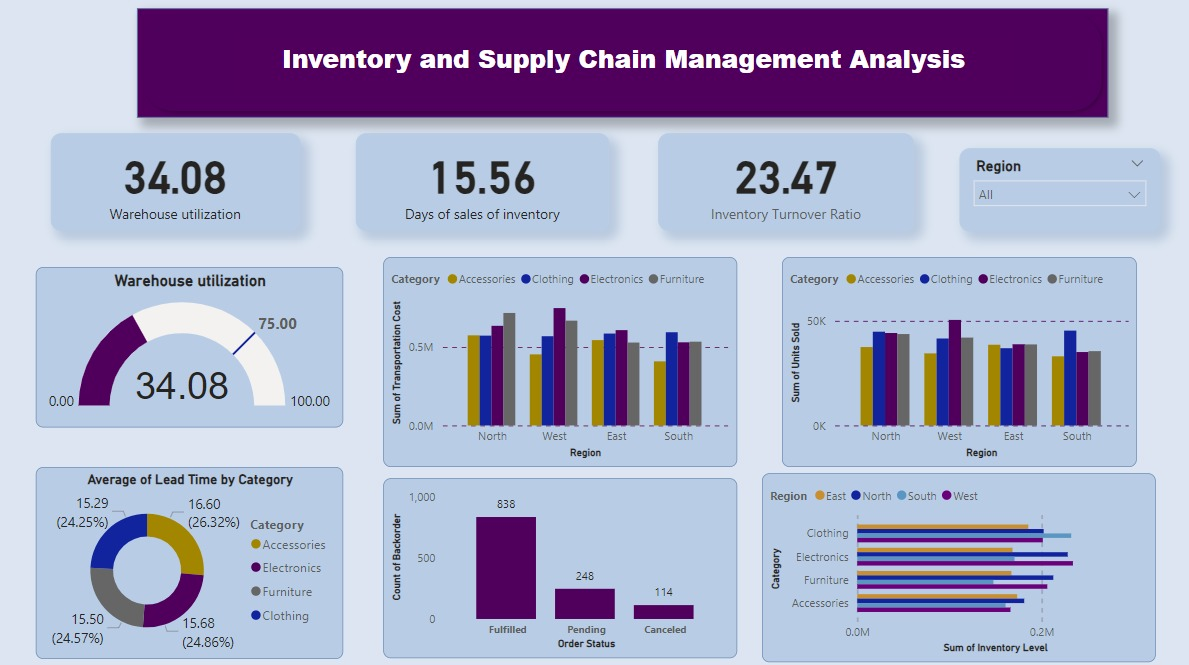

What the dashboard file says about the page in this screenshot:
{"tool":"powerbi","page":{"name":"Page 1","canvas":[1280,720],"ordinal":0},"visuals":[{"type":"shape","box":[155.1,17.8,1036,116.6],"z":0},{"type":"textbox","box":[259.3,46.7,827.4,60.4],"z":1},{"type":"card","fields":{"Values":["SupplyChainInventory.Warehouse utilization"]},"box":[63.1,150.9,266.2,104.3],"z":2},{"type":"card","fields":{"Values":["SupplyChainInventory.Days of sales of inventory"]},"box":[388.3,150.9,270.3,104.3],"z":3},{"type":"card","fields":{"Values":["SupplyChainInventory.Inventory Turnover Ratio"]},"box":[710.8,150.9,273.1,104.3],"z":4},{"type":"slicer","fields":{"Values":["SupplyChainInventory.Region"]},"box":[1031.9,166,214.1,89.2],"z":5},{"type":"gauge","fields":{"Y":["SupplyChainInventory.Warehouse utilization"]},"box":[46.7,293.7,328,171.5],"z":6},{"type":"clusteredColumnChart","fields":{"Y":["Sum(SupplyChainInventory.Transportation Cost)"],"Category":["SupplyChainInventory.Region"],"Series":["SupplyChainInventory.Category"]},"box":[417.2,282.7,377.4,223.7],"z":7},{"type":"clusteredColumnChart","fields":{"Series":["SupplyChainInventory.Category"],"Y":["Sum(SupplyChainInventory.Units Sold)"],"Category":["SupplyChainInventory.Region"]},"box":[842.5,282.7,378.7,223.7],"z":8},{"type":"donutChart","fields":{"Y":["Avg(SupplyChainInventory.Lead Time)"],"Category":["SupplyChainInventory.Category"]},"box":[46.7,506.3,328,204.5],"z":9},{"type":"columnChart","fields":{"Y":["CountNonNull(SupplyChainInventory.Backorder)"],"Category":["SupplyChainInventory.Order Status"]},"box":[417.2,518.7,377.4,192.1],"z":10},{"type":"clusteredBarChart","fields":{"Series":["SupplyChainInventory.Region"],"Category":["SupplyChainInventory.Category"],"Y":["Sum(SupplyChainInventory.Inventory Level)"]},"box":[822,513.2,419.9,201.7],"z":11}]}

Visuals, with their boxes in screenshot pixels (x1, y1, x2, y2), scaled from the page's 1280x720 canvas onto the 1189x665 screenshot:
shape: left=144, top=16, right=1106, bottom=124
textbox: left=241, top=43, right=1009, bottom=99
card - SupplyChainInventory.Warehouse utilization: left=59, top=139, right=306, bottom=236
card - SupplyChainInventory.Days of sales of inventory: left=361, top=139, right=612, bottom=236
card - SupplyChainInventory.Inventory Turnover Ratio: left=660, top=139, right=914, bottom=236
slicer - SupplyChainInventory.Region: left=959, top=153, right=1157, bottom=236
gauge - SupplyChainInventory.Warehouse utilization: left=43, top=271, right=348, bottom=430
clusteredColumnChart - Sum(SupplyChainInventory.Transportation Cost) x SupplyChainInventory.Region: left=388, top=261, right=738, bottom=468
clusteredColumnChart - SupplyChainInventory.Category x Sum(SupplyChainInventory.Units Sold): left=783, top=261, right=1134, bottom=468
donutChart - Avg(SupplyChainInventory.Lead Time) x SupplyChainInventory.Category: left=43, top=468, right=348, bottom=657
columnChart - CountNonNull(SupplyChainInventory.Backorder) x SupplyChainInventory.Order Status: left=388, top=479, right=738, bottom=657
clusteredBarChart - SupplyChainInventory.Region x SupplyChainInventory.Category: left=764, top=474, right=1154, bottom=660
